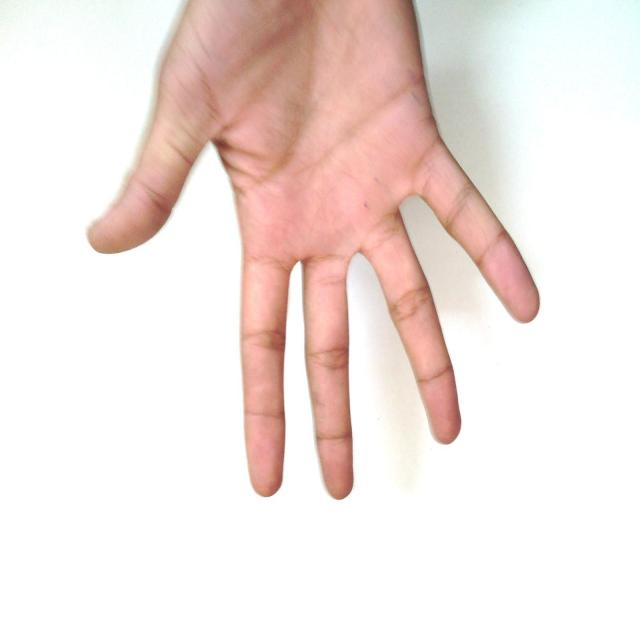others: (58, 1, 562, 516)
